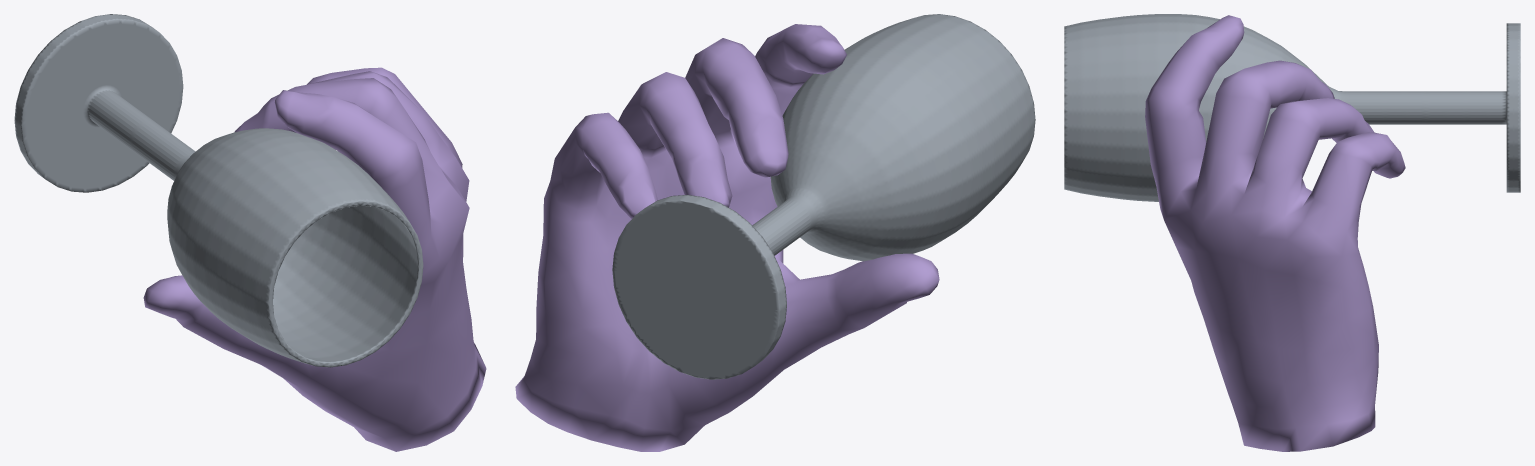
File: ours_3.glb
The picture shows the model from 3 angles, left to right: view 1: azimuth 30°, elevation 25°; view 2: azimuth 150°, elevation 25°; view 3: azimuth 270°, elevation 25°; orthographic projection. The views are drawn at different scales.
Bounding box in the file's own units: 0.146 × 0.1515 × 0.172.
